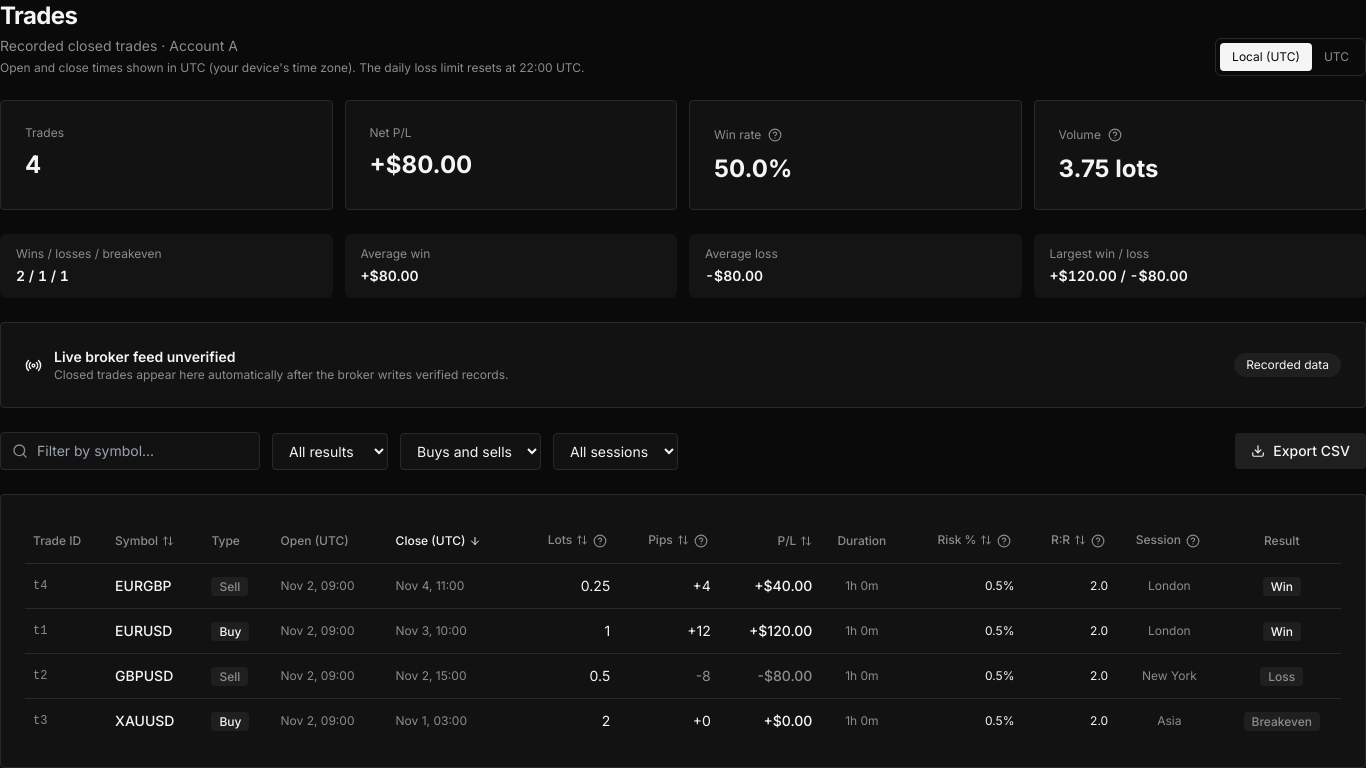
trades page › explains the column headers and summary labels in place
Expected: the button named "What does \"win rate\" mean?" is shown, [765,125,785,145]
Click the button named "What does \"pip\" mean?" at point(701, 541), box [691,531,711,551]
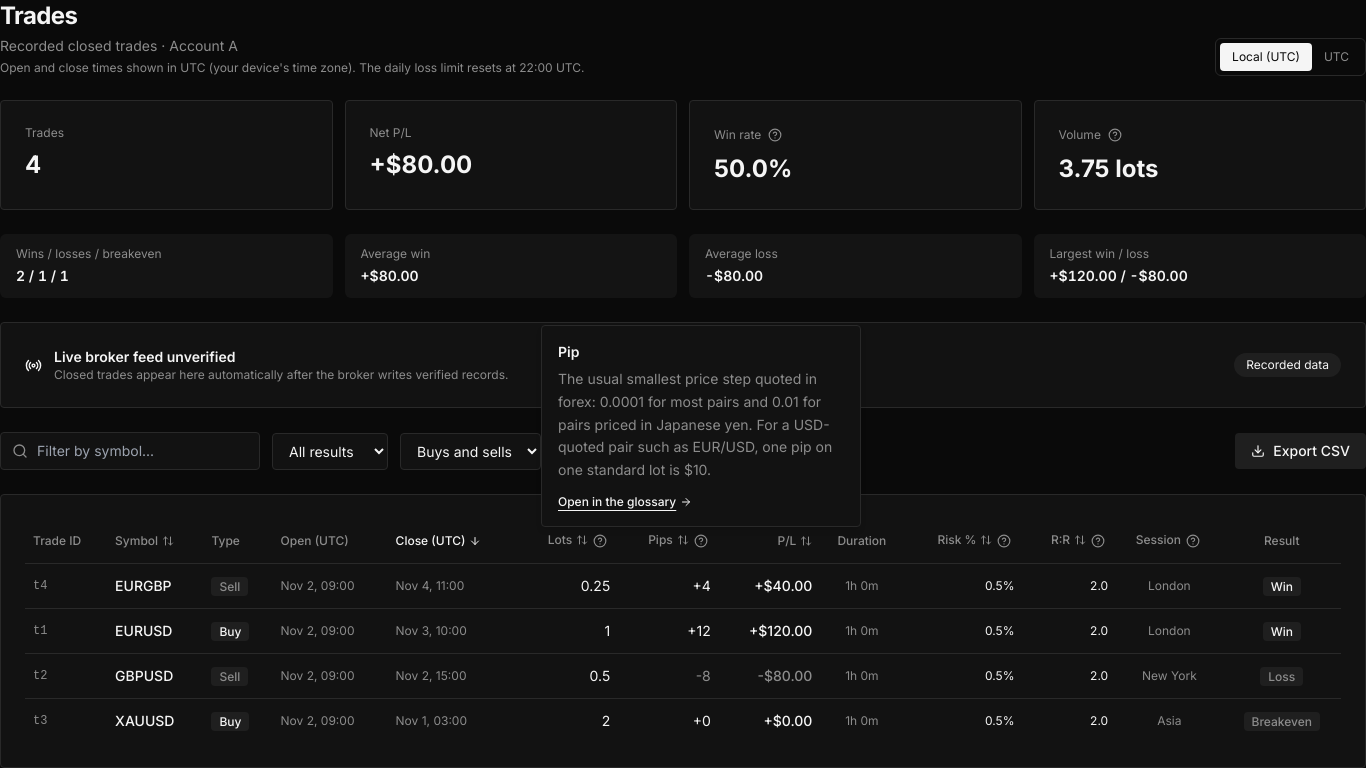
Expected: the text "usual smallest price step" is shown, [558,370,832,478]
Note: Sorting still works from the label itself.
Click the button "Pips" at point(668, 540), box [648,532,689,548]
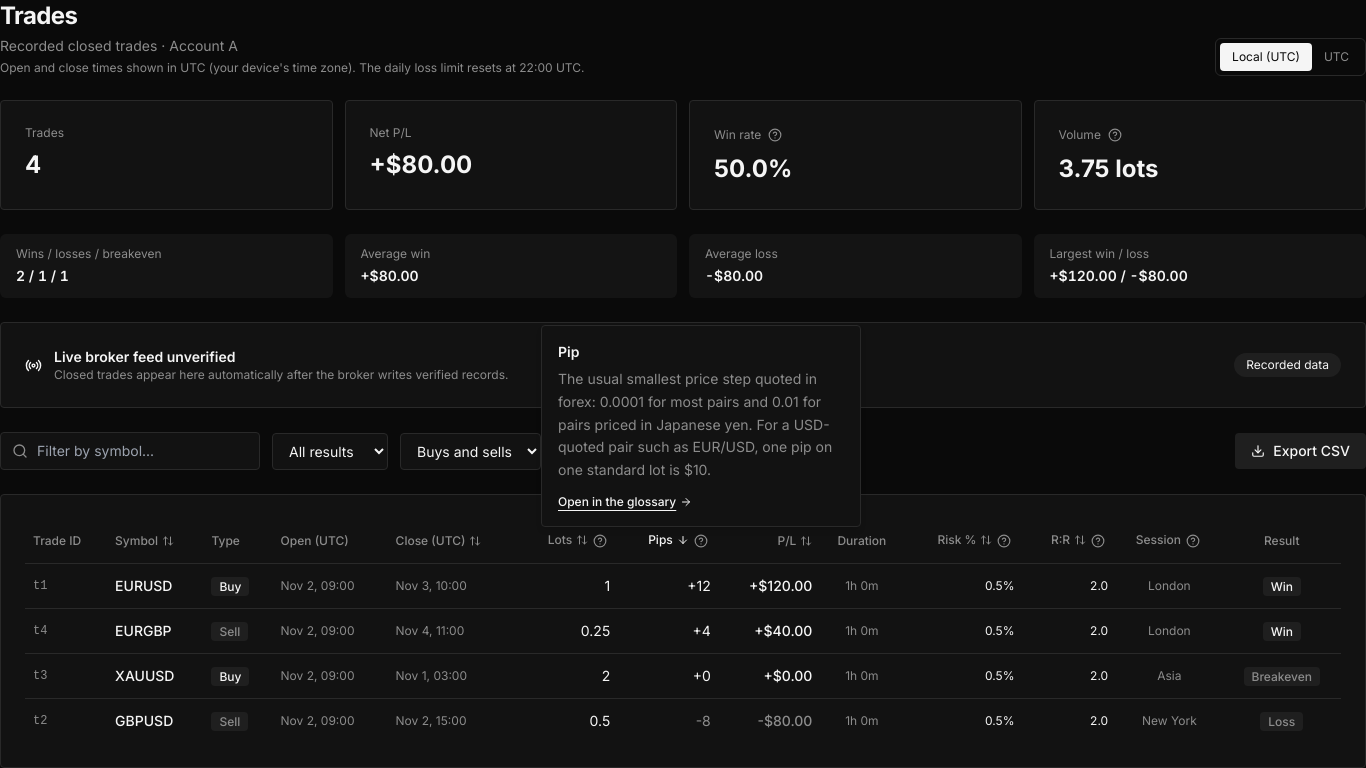
Expected: the column heading "Pips" has attribute aria-sort="descending", [618,519,719,564]
